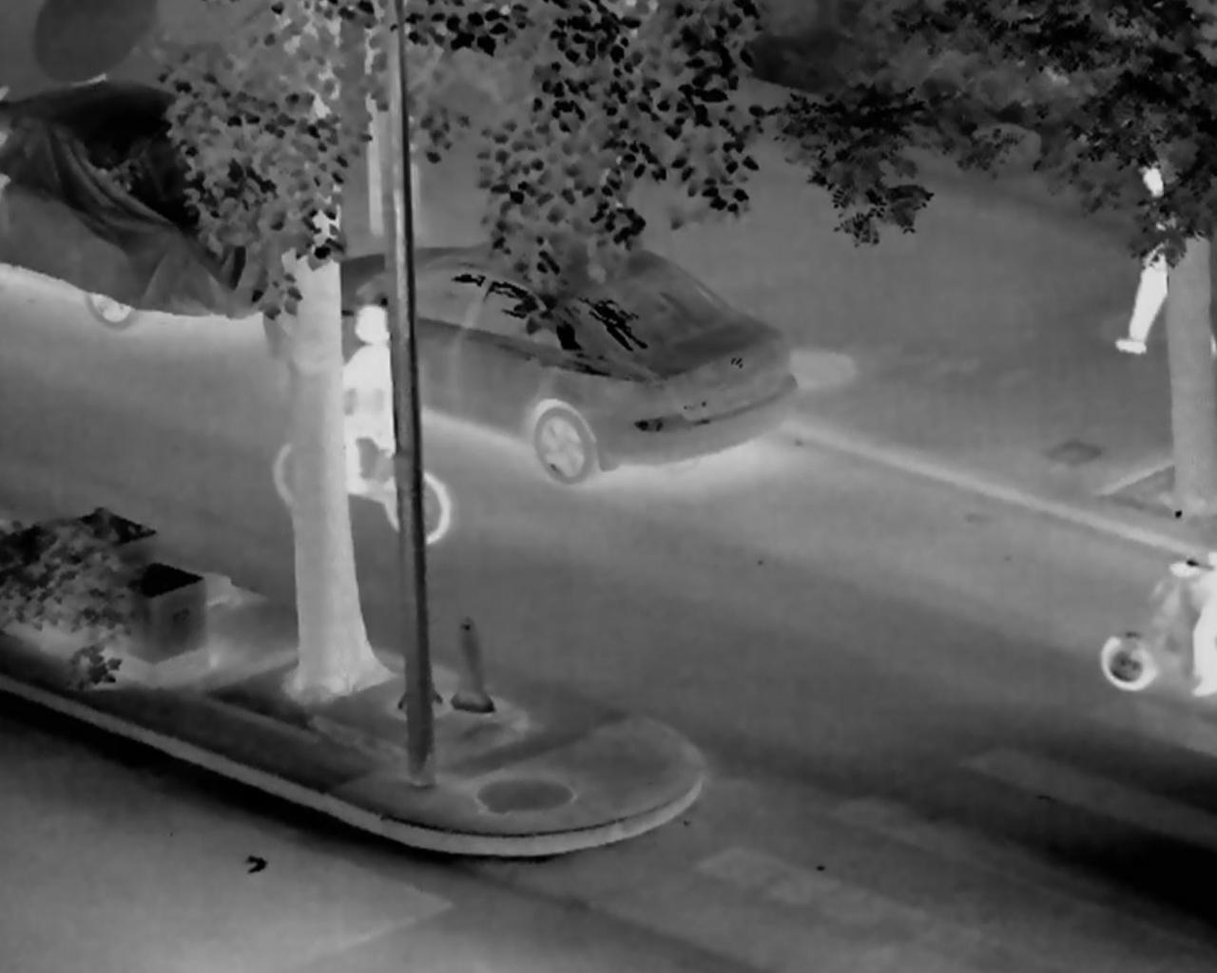person: (1115, 160, 1217, 362), (320, 303, 406, 494)
